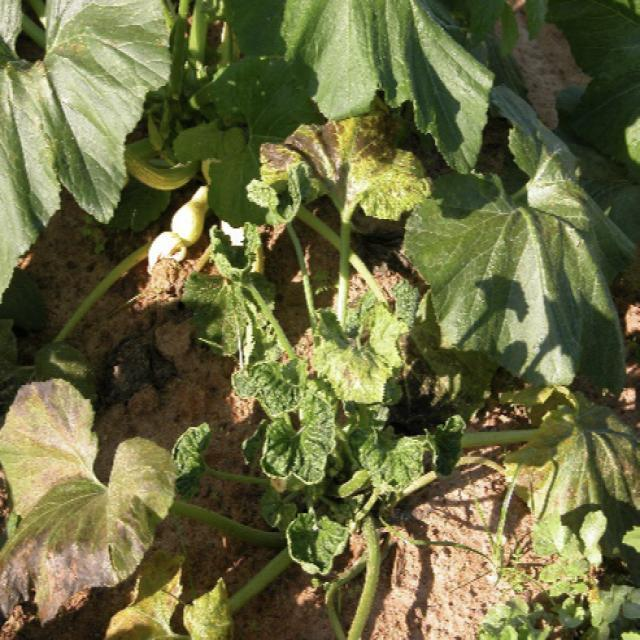Whitefly: (0, 381, 192, 640), (251, 96, 423, 216), (235, 352, 358, 484), (515, 436, 640, 564), (184, 270, 272, 356), (348, 313, 408, 409)
